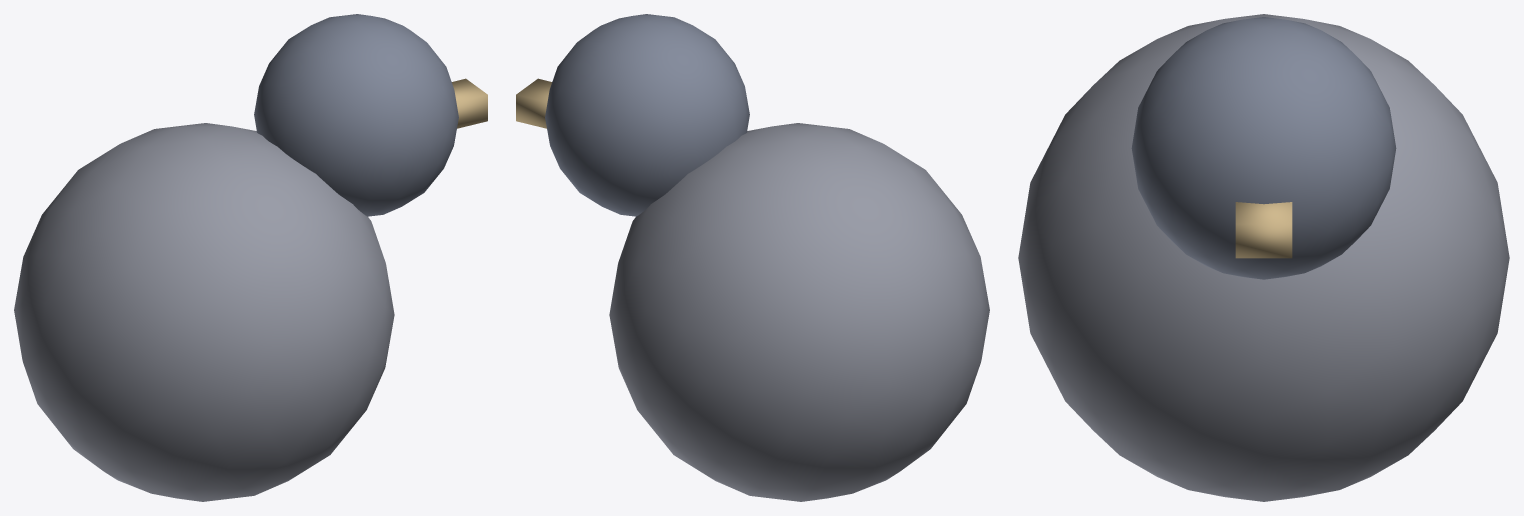
File: pigeon.glb
The picture shows the model from 3 angles, left to right: view 1: azimuth 30°, elevation 25°; view 2: azimuth 150°, elevation 25°; view 3: azimuth 270°, elevation 25°; orthographic projection. The views are drawn at different scales.
Visible parts, largest first — view 1: pigeon_0, pigeon_1, pigeon_2; view 2: pigeon_0, pigeon_1, pigeon_2; view 3: pigeon_0, pigeon_1, pigeon_2.
Boxes of the visible parts, x1,y1,x2,y2 form: pigeon_0: (14, 123, 394, 501); pigeon_1: (254, 14, 458, 216); pigeon_2: (452, 78, 487, 128); pigeon_0: (609, 123, 989, 501); pigeon_1: (545, 14, 749, 216); pigeon_2: (516, 78, 551, 128); pigeon_0: (1018, 14, 1509, 501); pigeon_1: (1131, 17, 1396, 279); pigeon_2: (1235, 202, 1292, 258).
Size of the model in its own units: 0.345 by 0.32 by 0.26.
